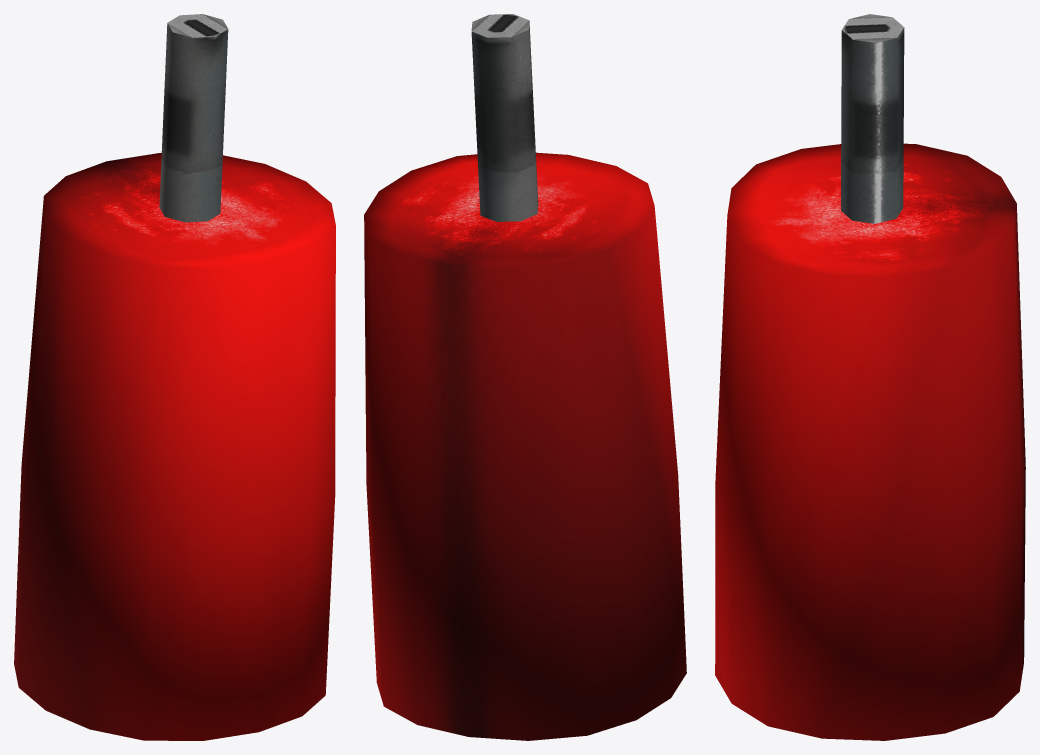
File: GrenadeInsendiaryProjectile.fbx
3 renders of one model, left to right at view 1: azimuth 30°, elevation 25°; view 2: azimuth 150°, elevation 25°; view 3: azimuth 270°, elevation 25°, orthographic.
Visible parts, largest first — view 1: Cube.001; view 2: Cube.001; view 3: Cube.001.
Part boxes in pixels (bbox=[...]): Cube.001: bbox=[14, 14, 335, 740]; Cube.001: bbox=[364, 14, 686, 740]; Cube.001: bbox=[715, 14, 1025, 740].
Bounding box in the file's own units: 0.0272 × 0.0615 × 0.0261.
